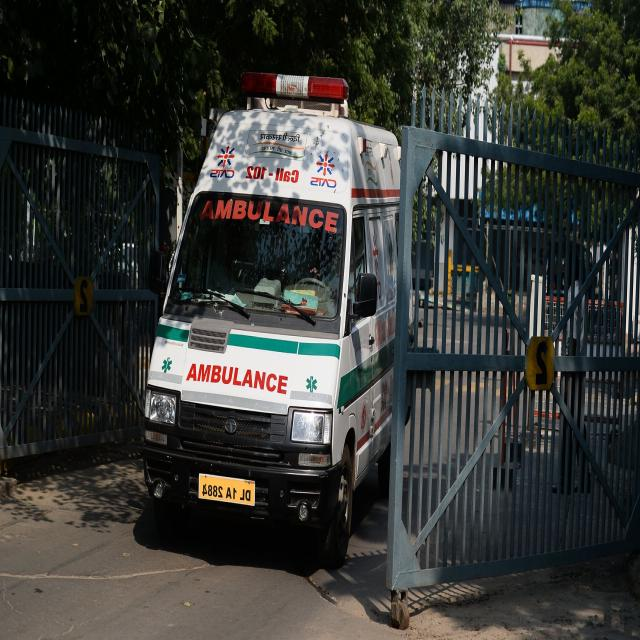emergency: (144, 73, 400, 567)
